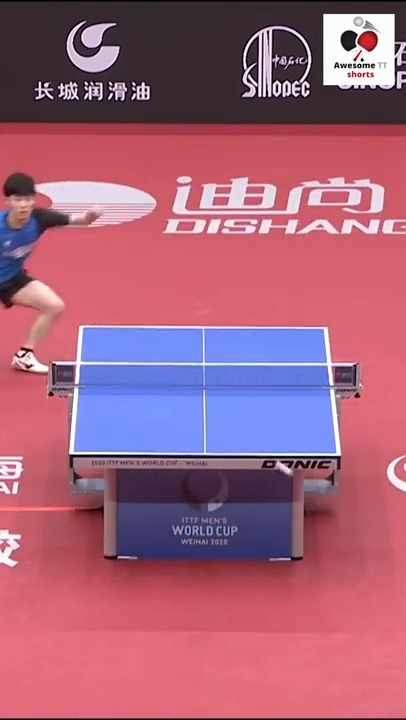Ball: (277, 464, 291, 477)
